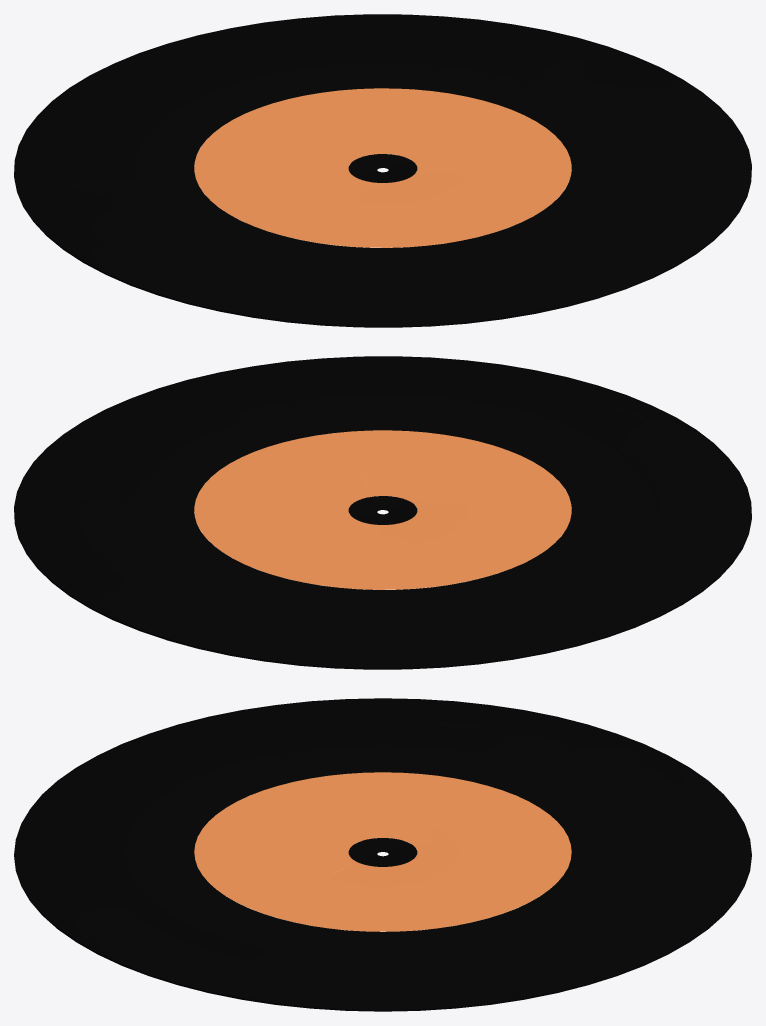
File: discovinilo-optimized.gltf
3 views of the same model, one above another, from view 1: azimuth 30°, elevation 25°; view 2: azimuth 150°, elevation 25°; view 3: azimuth 270°, elevation 25° (orthographic).
Visible parts, largest first — view 1: Cilindro-Mat (×3); view 2: Cilindro-Mat (×3); view 3: Cilindro-Mat (×3).
Part boxes in pixels (x1,y1,x2,y2): Cilindro-Mat (×3): [14, 14, 751, 327]; Cilindro-Mat (×3): [14, 356, 751, 669]; Cilindro-Mat (×3): [14, 698, 751, 1011].
Bounding box in the file's own units: 2.74 × 0.015 × 2.74.
